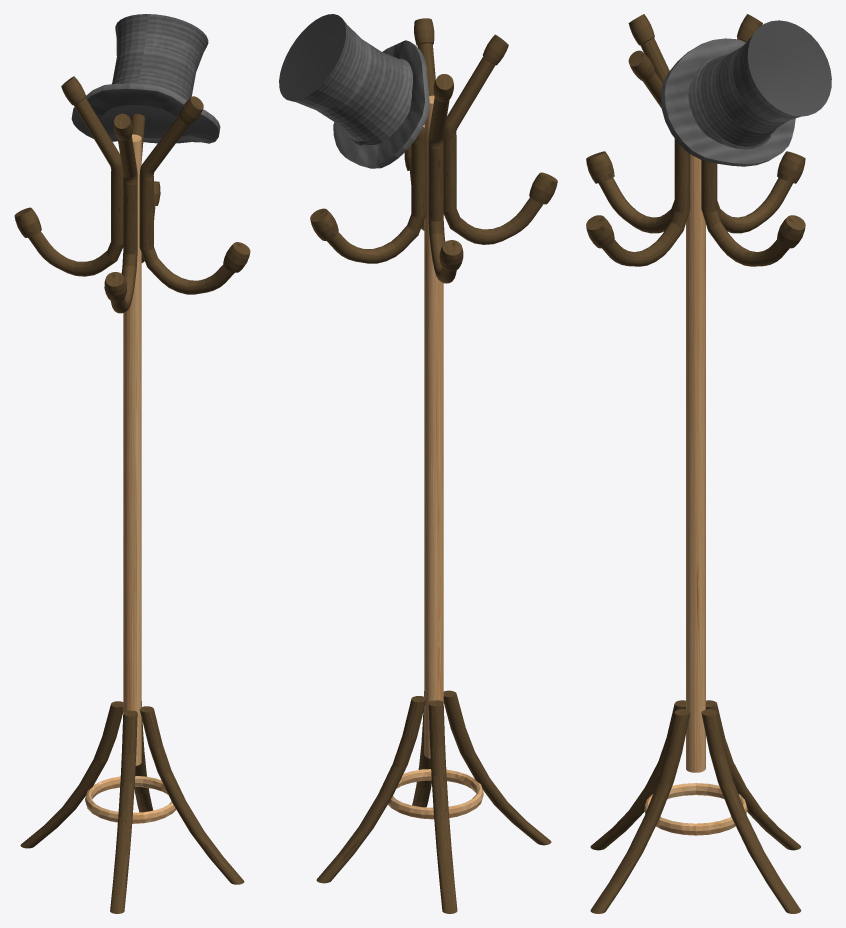
The model's file is cabideiro.fbx.
3 views of the same model, side by side, from view 1: azimuth 30°, elevation 25°; view 2: azimuth 150°, elevation 25°; view 3: azimuth 270°, elevation 25° (orthographic). The views are drawn at different scales.
Parts seen in each view (by area): view 1: Cylinder.002, Cylinder, Cylinder.001, Cylinder.003, Cylinder.004, Torus.001; view 2: Cylinder.002, Cylinder.003, Cylinder, Cylinder.001, Cylinder.004, Torus.001; view 3: Cylinder.002, Cylinder.003, Cylinder, Cylinder.001, Cylinder.004, Torus.001.
Part boxes in pixels (x1,y1,x2,y2): Cylinder.002: (14, 76, 250, 313); Cylinder: (123, 134, 141, 765); Cylinder.001: (20, 701, 244, 913); Cylinder.003: (112, 14, 208, 100); Cylinder.004: (71, 83, 220, 143); Torus.001: (85, 776, 176, 823); Cylinder.002: (310, 18, 557, 283); Cylinder.003: (279, 14, 412, 145); Cylinder: (424, 95, 443, 758); Cylinder.001: (316, 690, 551, 913); Cylinder.004: (333, 40, 429, 168); Torus.001: (388, 769, 483, 819); Cylinder.002: (586, 14, 805, 266); Cylinder.003: (688, 20, 831, 149); Cylinder: (686, 154, 705, 772); Cylinder.001: (590, 700, 801, 913); Cylinder.004: (661, 38, 795, 166); Torus.001: (644, 783, 747, 835).
Size of the model in its own units: 272 by 1181 by 297.
Materials: 3 (3 with a texture image).
